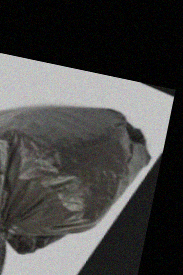vinyl_s: (1, 100, 160, 273)
